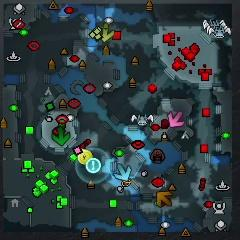Other: (86, 158, 101, 173)
p4: (77, 149, 92, 165)
x1: (168, 110, 184, 127)
x2: (98, 23, 115, 42)
x3: (114, 164, 131, 181)
x4: (52, 127, 70, 146)
x5: (156, 191, 172, 207)
